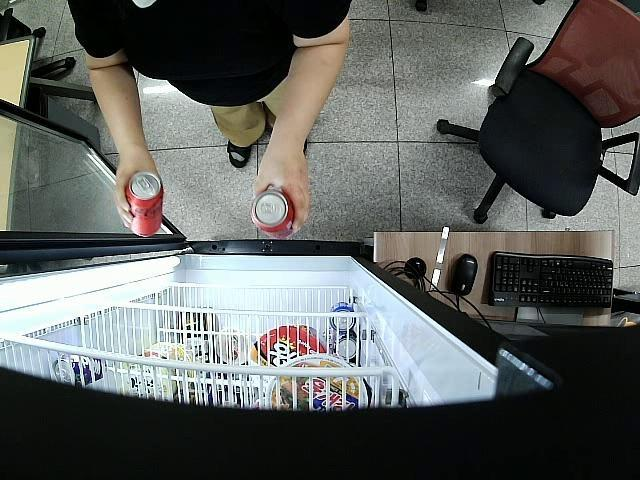11_cocaColaZero: (124, 171, 164, 237), (251, 191, 296, 241)
